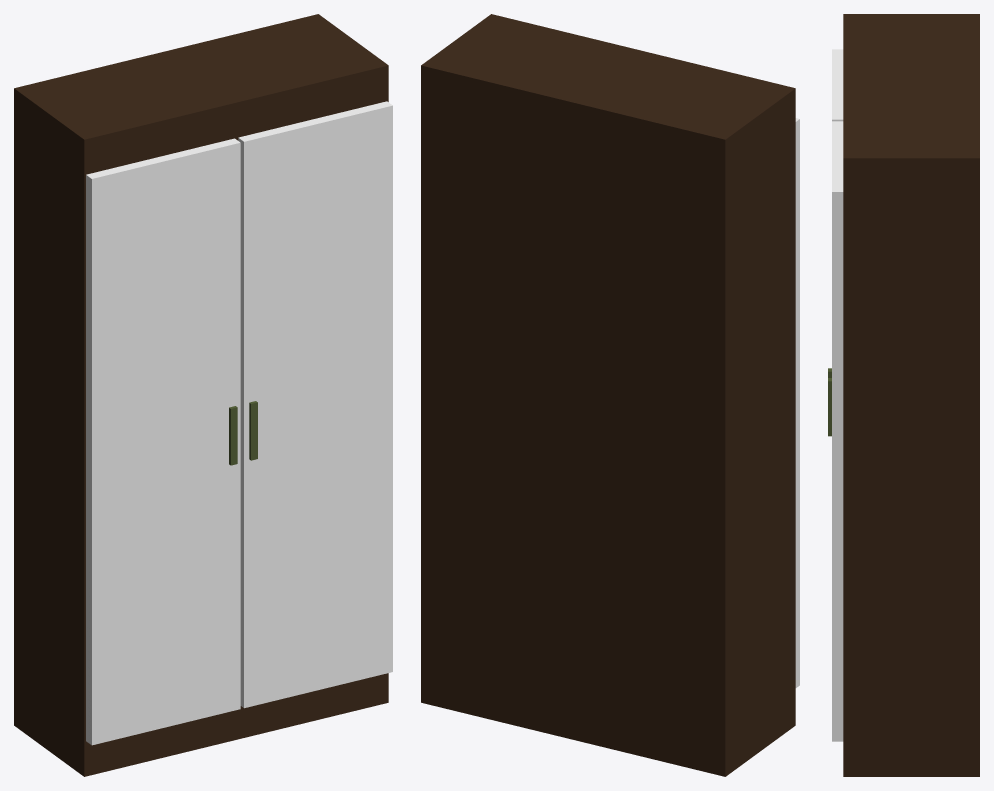
The model's file is locker.glb.
3 renders of one model, left to right at view 1: azimuth 30°, elevation 25°; view 2: azimuth 150°, elevation 25°; view 3: azimuth 270°, elevation 25°, orthographic. The views are drawn at different scales.
Visible parts, largest first — view 1: material-1-door, material-0-body, material-2-metal; view 2: material-0-body, material-1-door; view 3: material-0-body, material-1-door.
Boxes of the visible parts, box(x1,y1,x2,y2) form: material-1-door: box(86, 101, 392, 745); material-0-body: box(14, 14, 388, 776); material-2-metal: box(229, 401, 257, 465); material-0-body: box(421, 14, 795, 776); material-1-door: box(795, 118, 799, 687); material-0-body: box(843, 14, 979, 776); material-1-door: box(832, 49, 843, 741).
Size of the model in its own units: 0.9 by 1.8 by 0.4.
